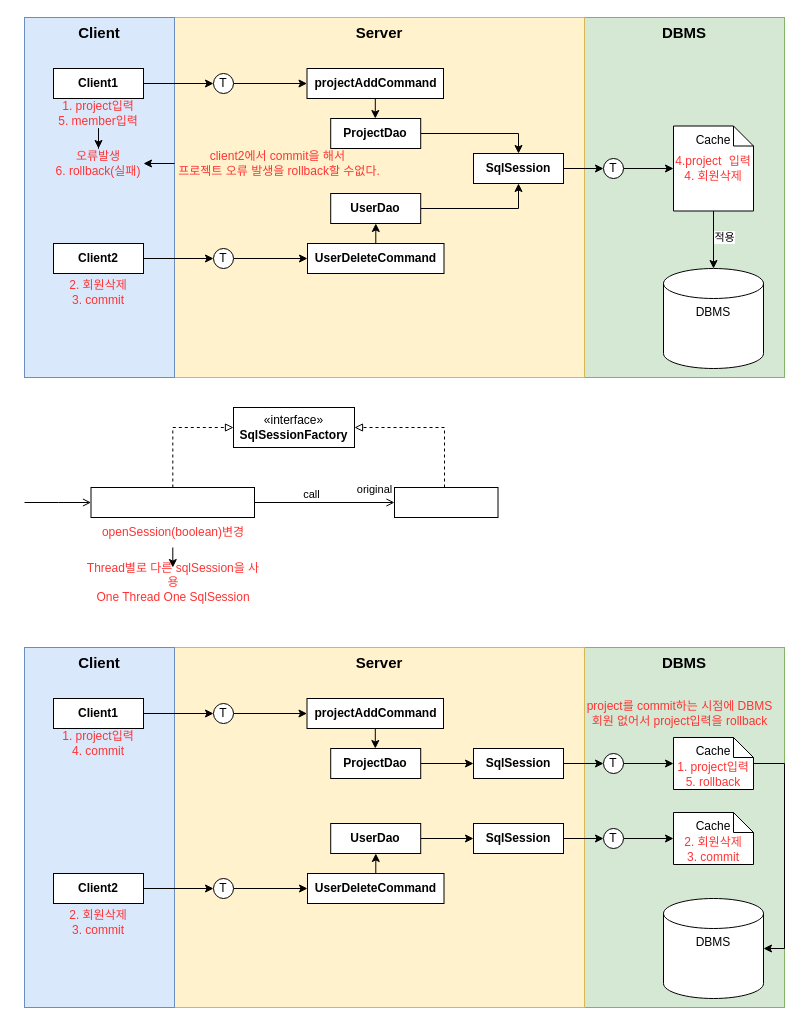
The diagram is 810 pixels wide and 1025 high, and some of its shapes have lost their labels. Each missing label, with the centre of its shape:
"Mybatis구현체" goes at point 446,502.
"SqlSessionFactoryProxy" goes at point 172,502.
